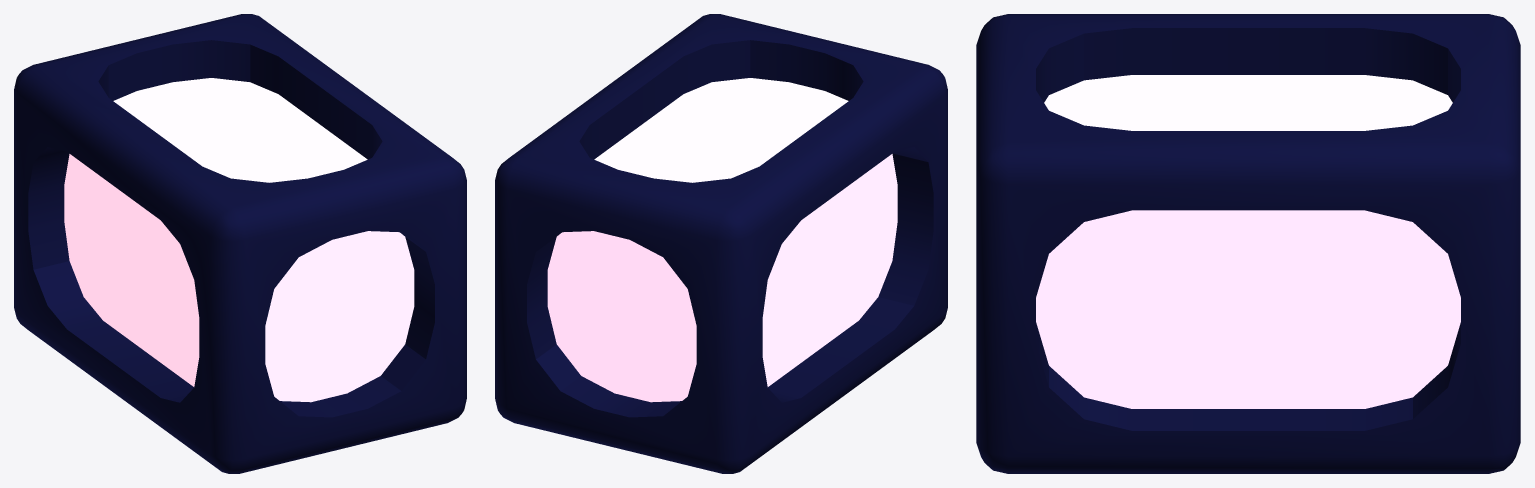
Rendered from deliverableItem.fbx.
3 renders of one model, left to right at view 1: azimuth 30°, elevation 25°; view 2: azimuth 150°, elevation 25°; view 3: azimuth 270°, elevation 25°, orthographic. The views are drawn at different scales.
Visible parts, largest first — view 1: Cube; view 2: Cube; view 3: Cube.
Boxes of the visible parts, x1,y1,x2,y2 form: Cube: (14, 14, 466, 473); Cube: (495, 14, 947, 473); Cube: (976, 14, 1520, 473).
Bounding box in the file's own units: 114 × 170 × 114.
